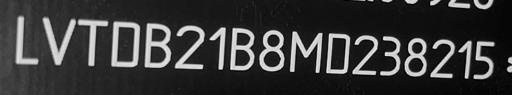letter: (106, 18, 142, 67), (40, 14, 74, 65), (286, 28, 324, 73), (76, 14, 106, 67), (172, 23, 206, 68), (13, 12, 41, 65), (142, 18, 170, 69), (256, 27, 286, 72), (226, 27, 256, 70), (427, 36, 457, 79), (324, 29, 350, 76), (351, 34, 379, 77), (401, 36, 427, 77), (206, 23, 228, 70), (378, 34, 402, 77), (472, 38, 496, 79), (456, 38, 472, 79)
